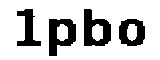1: (14, 9, 43, 51)
b: (82, 8, 113, 49)
o: (119, 17, 146, 48)
p: (46, 16, 81, 60)
